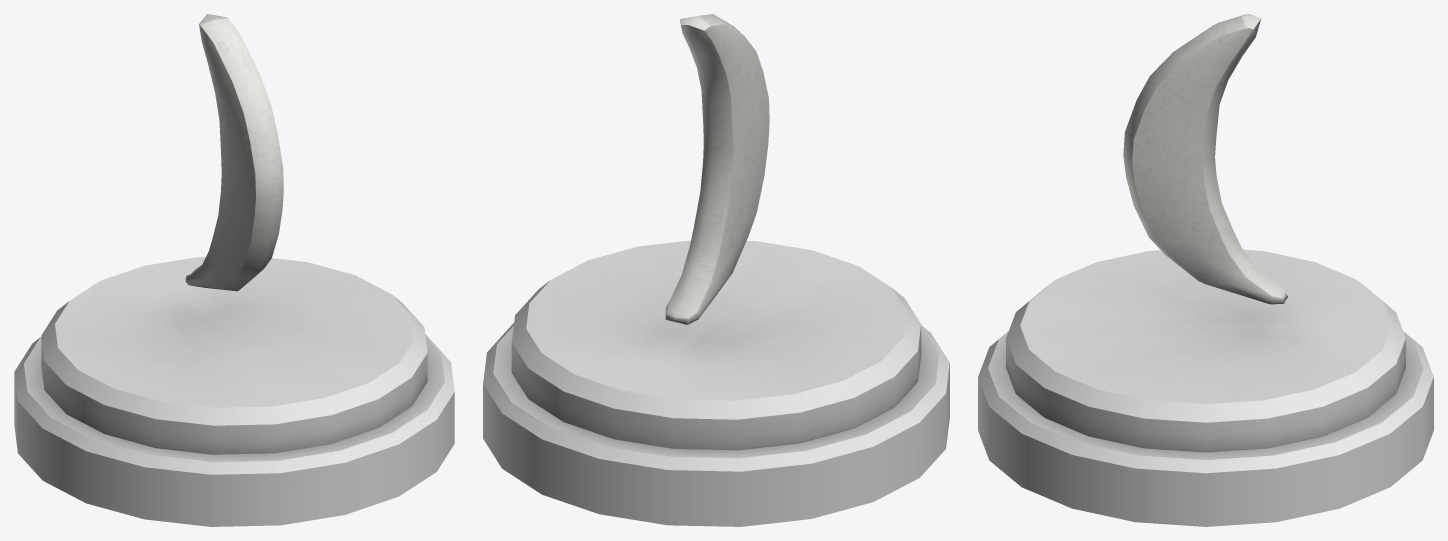
Rendered from LUAPRATA.fbx.
3 renders of one model, left to right at view 1: azimuth 30°, elevation 25°; view 2: azimuth 150°, elevation 25°; view 3: azimuth 270°, elevation 25°, orthographic. The views are drawn at different scales.
Parts seen in each view (by area): view 1: polySurface81, polySurface80; view 2: polySurface81, polySurface80; view 3: polySurface81, polySurface80.
Boxes of the visible parts, x1=… form: polySurface81: x1=14, y1=257, x2=454, y2=526; polySurface80: x1=185, y1=14, x2=283, y2=291; polySurface81: x1=483, y1=240, x2=949, y2=526; polySurface80: x1=665, y1=14, x2=769, y2=324; polySurface81: x1=978, y1=249, x2=1433, y2=526; polySurface80: x1=1123, y1=14, x2=1287, y2=304.
Bounding box in the file's own units: 0.4773 × 0.4784 × 0.4773.
1 material, 1 textured.
